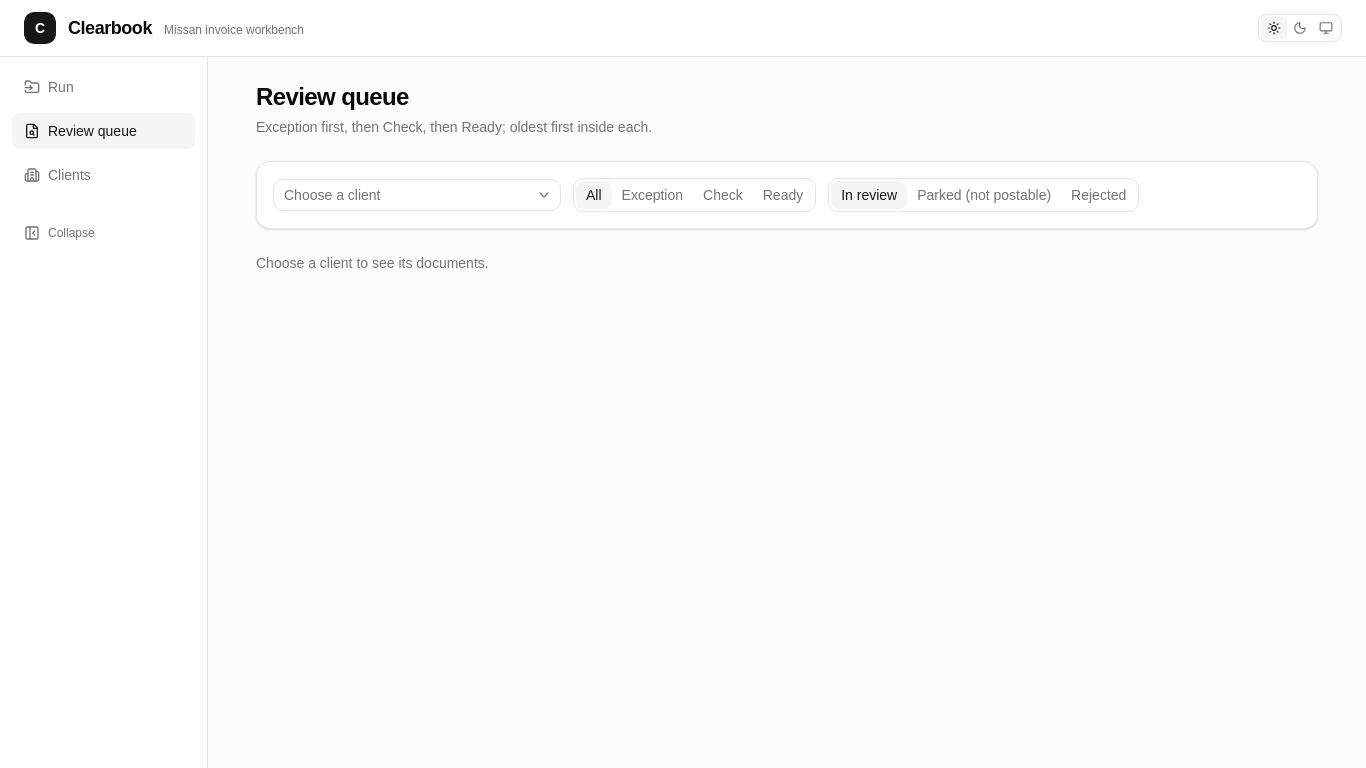
Scenario: review queue › remembers the last client on this computer
The width and height of the screenshot is (1366, 768).
Click the dropdown labelled "client": (332, 195) [273,179,561,211]
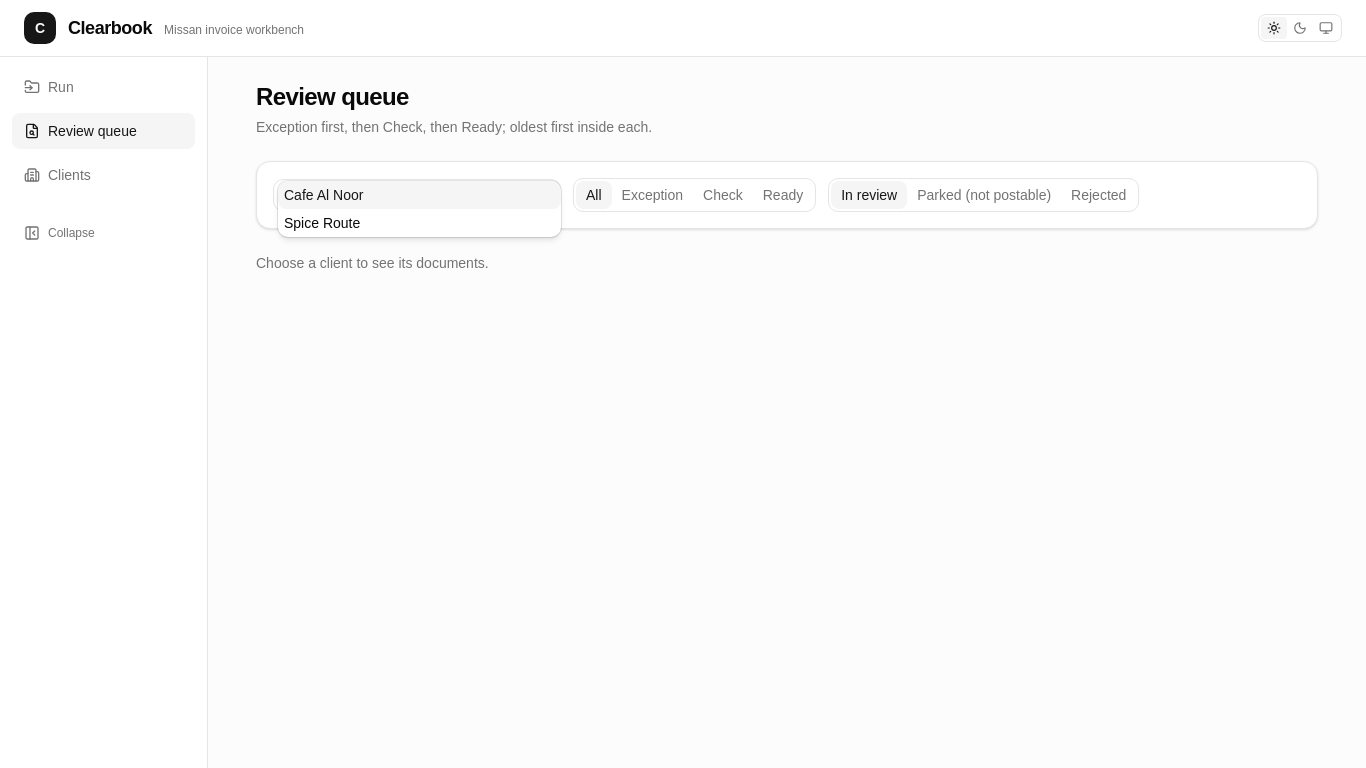
Click the option "Spice Route": (322, 223) [284,215,360,231]
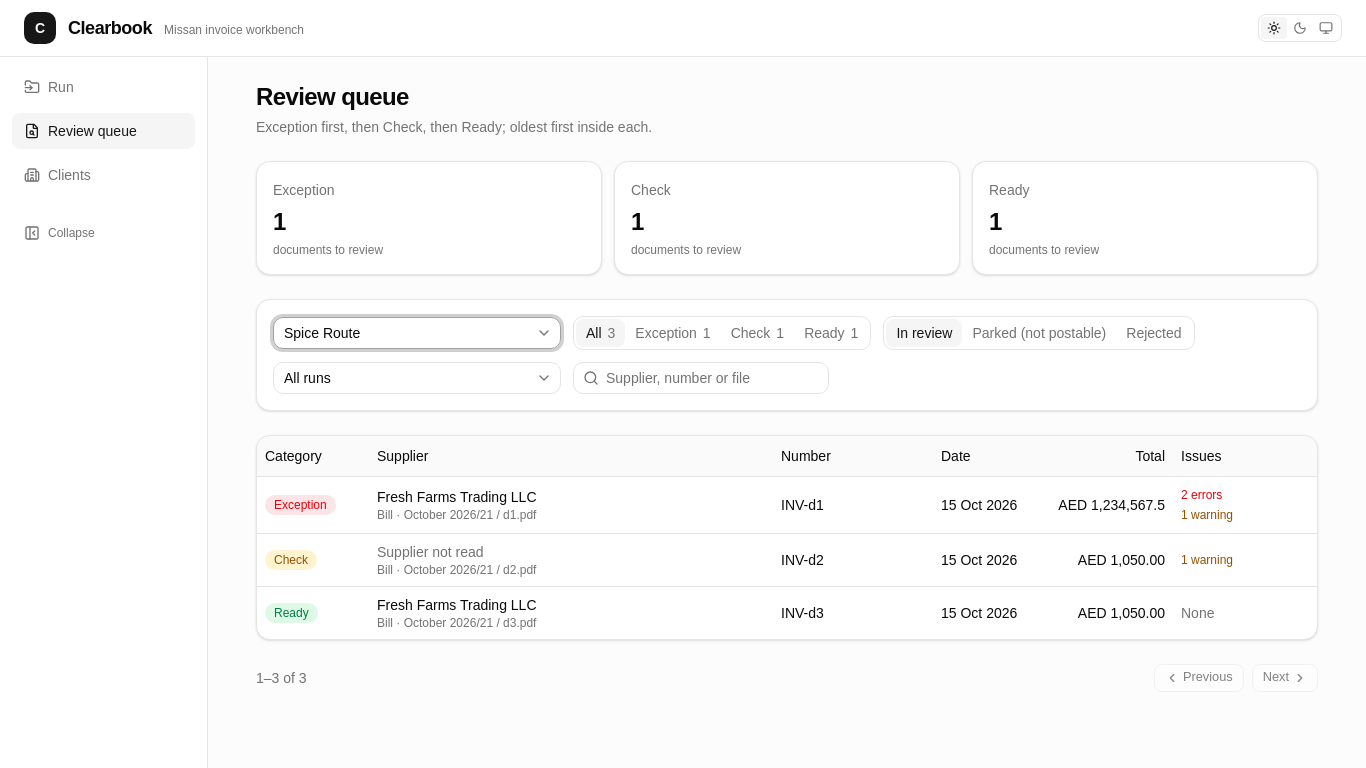
Now the table named "Documents" is shown, box [257,436,1317,638]
